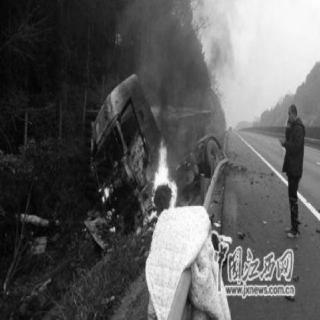Fire: (144, 134, 180, 224), (98, 182, 114, 202), (106, 206, 116, 220)
Smoke: (148, 7, 198, 109), (204, 20, 232, 78)
